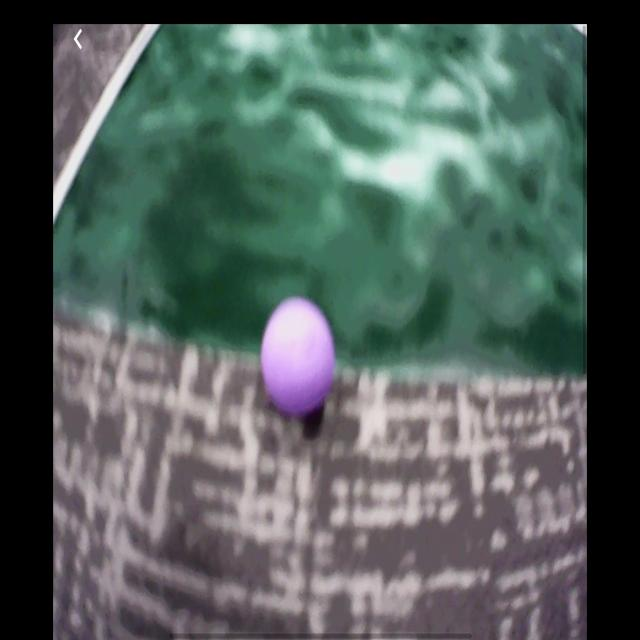ball: (263, 296, 335, 417)
